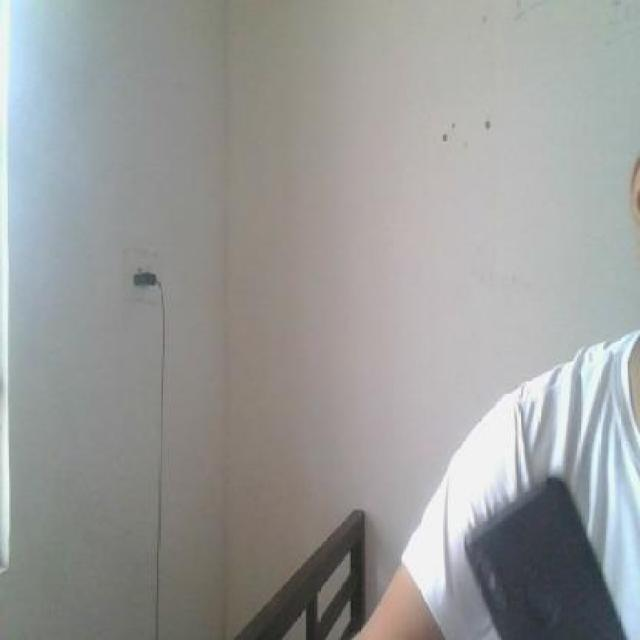Phone: (461, 474, 628, 640)
